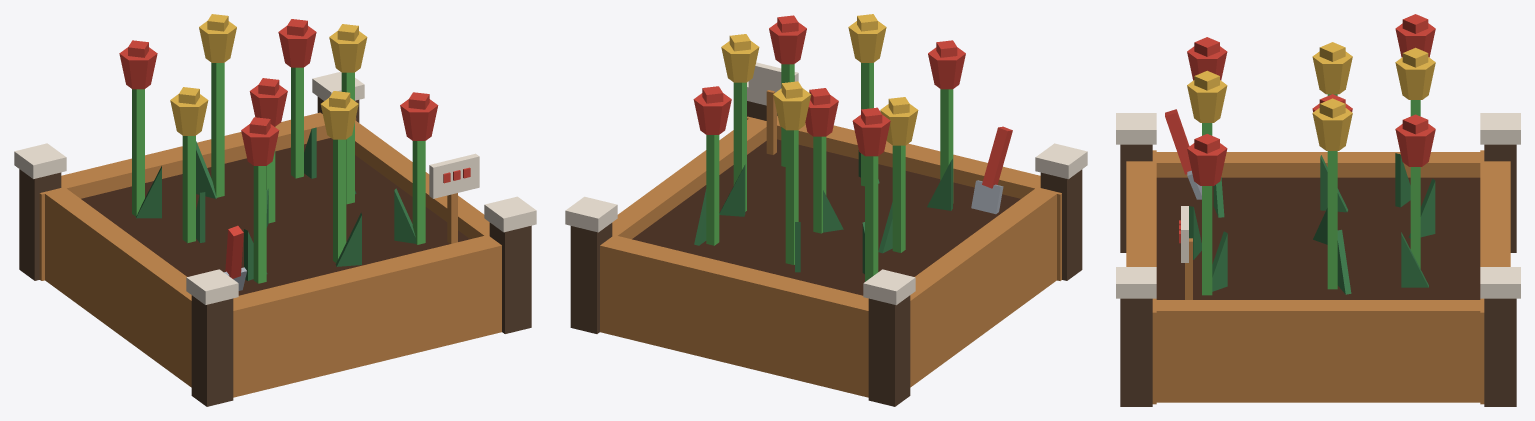
File: CatCafe_Lawn_TulipBed.glb
3 renders of one model, left to right at view 1: azimuth 30°, elevation 25°; view 2: azimuth 150°, elevation 25°; view 3: azimuth 270°, elevation 25°, orthographic. The views are drawn at different scales.
Parts seen in each view (by area): view 1: CatCafe_Lawn_TulipBed; view 2: CatCafe_Lawn_TulipBed; view 3: CatCafe_Lawn_TulipBed.
Part boxes in pixels (left/top/right/bottom): CatCafe_Lawn_TulipBed: left=14, top=14, right=536, bottom=406; CatCafe_Lawn_TulipBed: left=565, top=14, right=1087, bottom=406; CatCafe_Lawn_TulipBed: left=1116, top=14, right=1520, bottom=406.
Bounding box in the file's own units: 2 × 1.44 × 2.
Materials: 1 (1 with a texture image).
